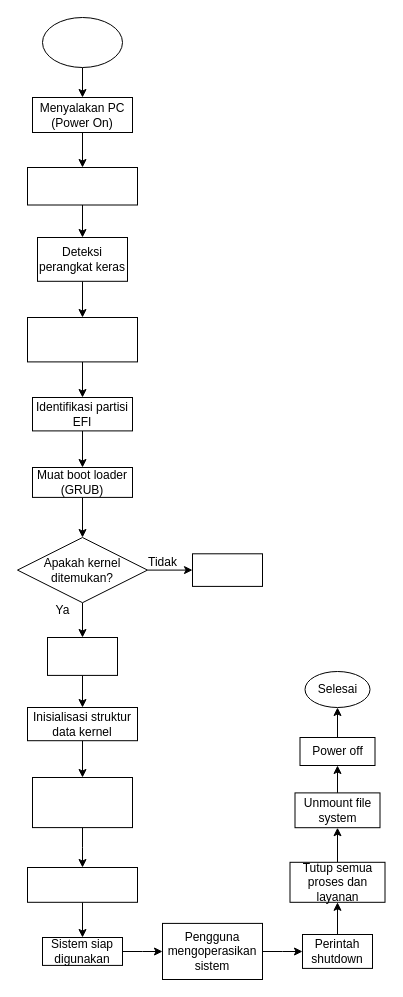
Image size: 403x997. Some labels were removed from this diagram. Here are the shapes that lost their labels. From the top down, the box of each, then its label:
(42, 16, 122, 68): Mulai
(26, 166, 138, 205): Muat BIOS/UEFI dari NVRAM
(26, 316, 138, 362): Pilih perangkat boot (Disk, USB, Jaringan)
(192, 553, 262, 586): Gagal boot
(46, 636, 118, 675): Muat kernel
(32, 776, 132, 828): Jalankan init/systemd (PID 1)
(26, 866, 138, 902): Jalankan skrip start up
